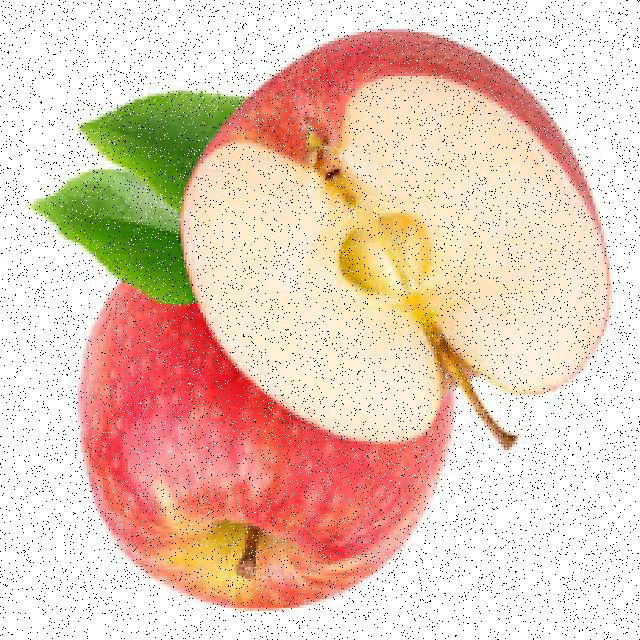Apple: (183, 48, 610, 446), (81, 312, 437, 614)
